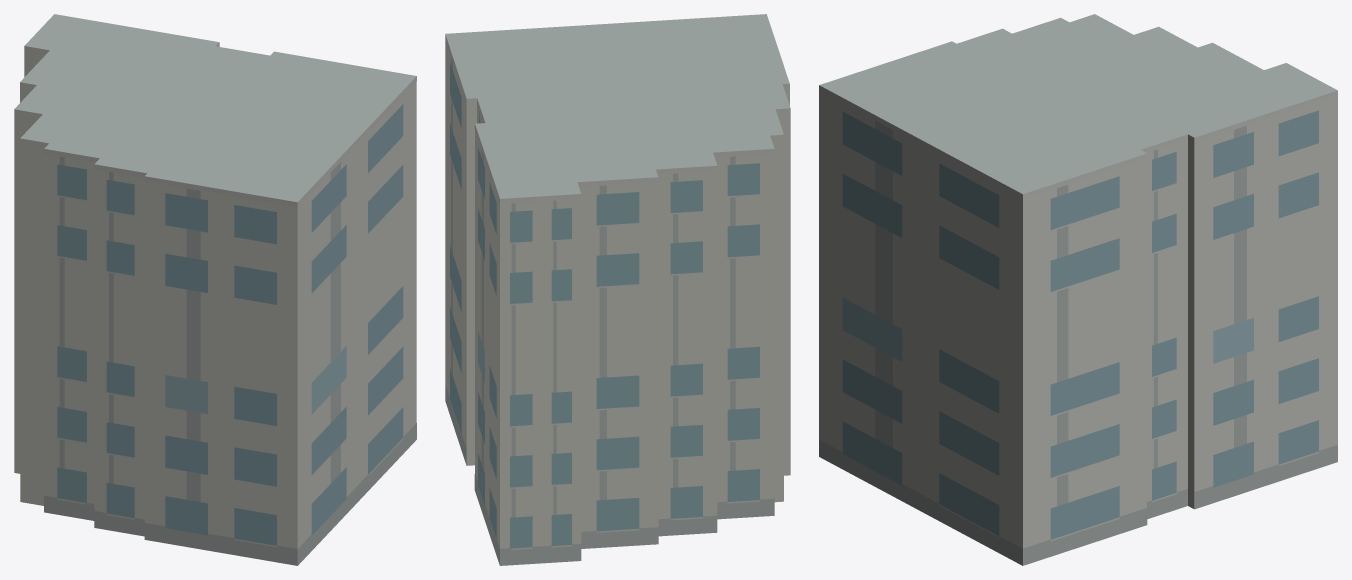
Rendered from survey-upis-32703504.glb.
The picture shows the model from 3 angles, left to right: view 1: azimuth 30°, elevation 25°; view 2: azimuth 150°, elevation 25°; view 3: azimuth 270°, elevation 25°; orthographic projection. The views are drawn at different scales.
Visible parts, largest first — view 1: survey-upis-32703504.tmp; view 2: survey-upis-32703504.tmp; view 3: survey-upis-32703504.tmp.
Part boxes in pixels (x1,y1,x2,y2): survey-upis-32703504.tmp: (14, 14, 416, 565); survey-upis-32703504.tmp: (445, 14, 790, 565); survey-upis-32703504.tmp: (819, 14, 1337, 565).
Size of the model in its own units: 18 by 17.3 by 21.89.
